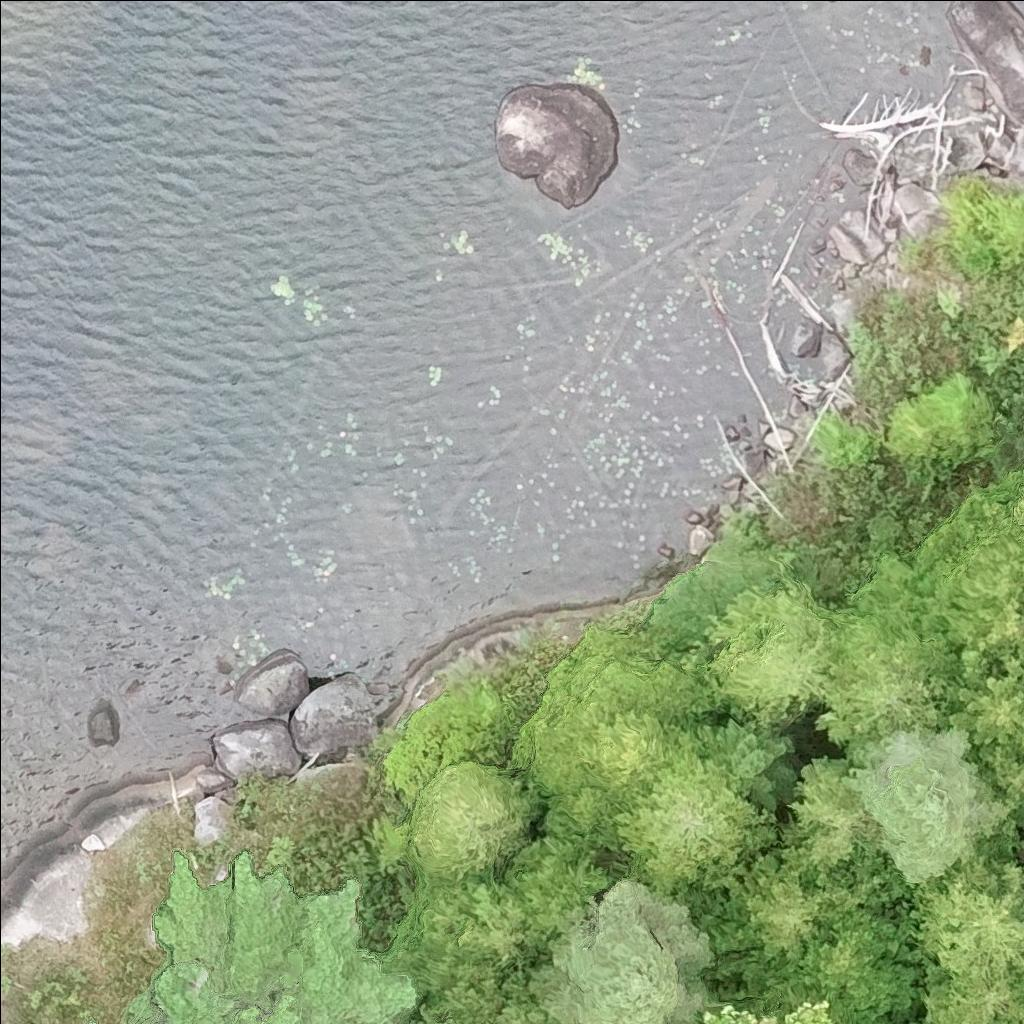crown: (120, 851, 466, 1023), (507, 628, 712, 800), (699, 845, 913, 1005), (606, 746, 785, 922), (525, 873, 733, 1023), (855, 723, 1011, 882), (811, 598, 963, 759), (908, 493, 1023, 651), (700, 580, 828, 721), (407, 762, 543, 889), (904, 849, 1023, 975), (780, 742, 886, 879), (501, 842, 616, 952), (687, 710, 798, 812), (952, 644, 1023, 761), (919, 956, 1023, 1023), (535, 787, 621, 854), (974, 746, 1023, 834), (699, 999, 845, 1023), (502, 1018, 544, 1023), (910, 1019, 931, 1023), (89, 1020, 111, 1023)
